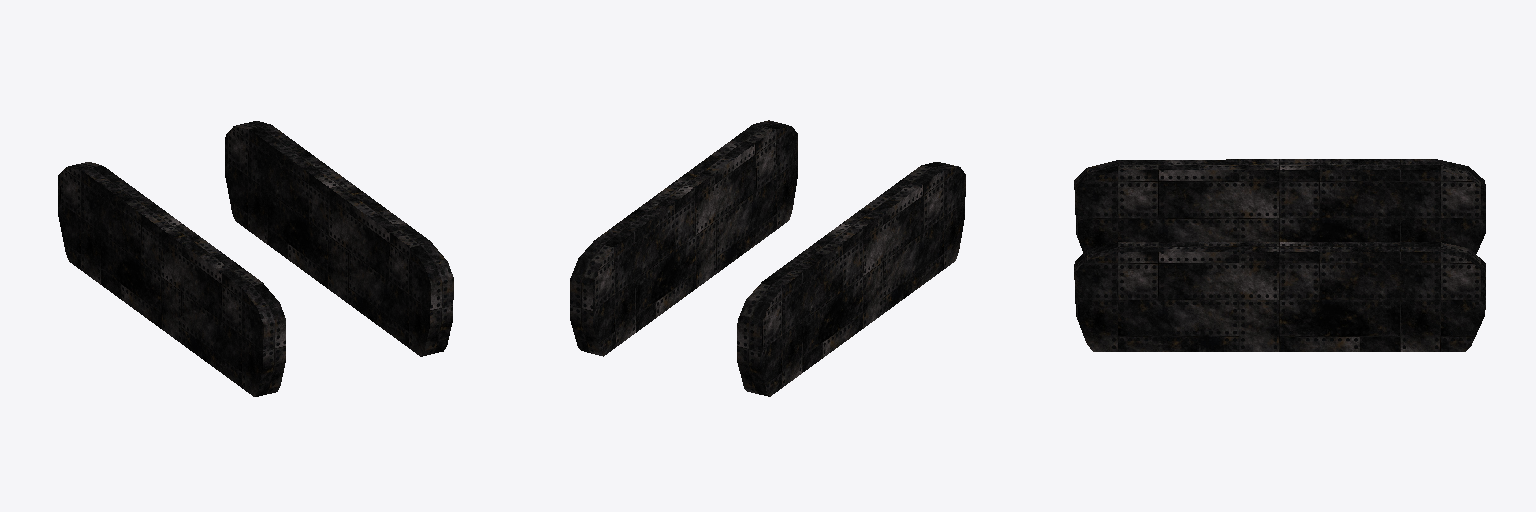
3 views of the same model, side by side, from view 1: azimuth 30°, elevation 25°; view 2: azimuth 150°, elevation 25°; view 3: azimuth 270°, elevation 25° (orthographic).
Parts seen in each view (by area): view 1: sine_Sci-Fi_Panel; view 2: sine_Sci-Fi_Panel; view 3: sine_Sci-Fi_Panel.
Part boxes in pixels (x1,y1,x2,y2): sine_Sci-Fi_Panel: (58,121,453,396); sine_Sci-Fi_Panel: (570,120,965,396); sine_Sci-Fi_Panel: (1074,159,1485,351).
Size of the model in its own units: 1.36 by 0.6889 by 2.55.
1 materials, 1 textured.